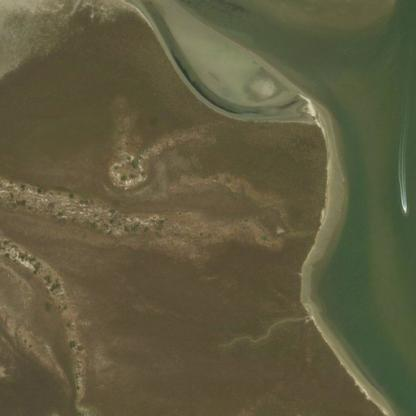ship: (397, 202, 411, 216)
